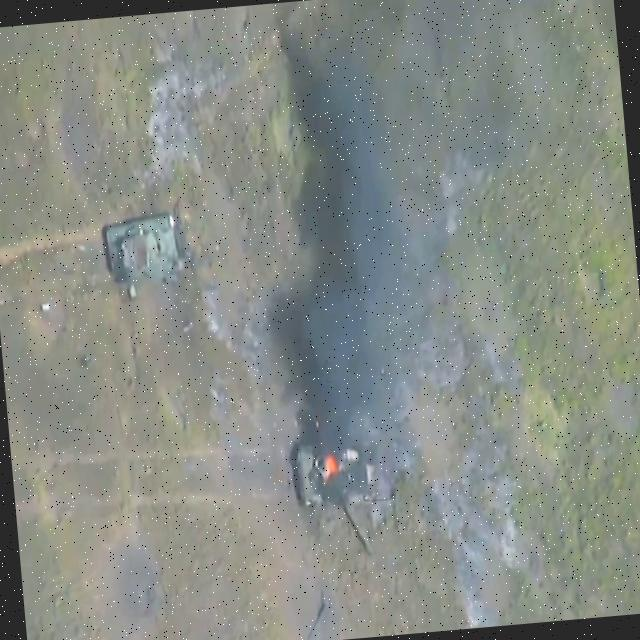Destroyed: (289, 430, 387, 561)
MBT: (104, 209, 211, 290)
